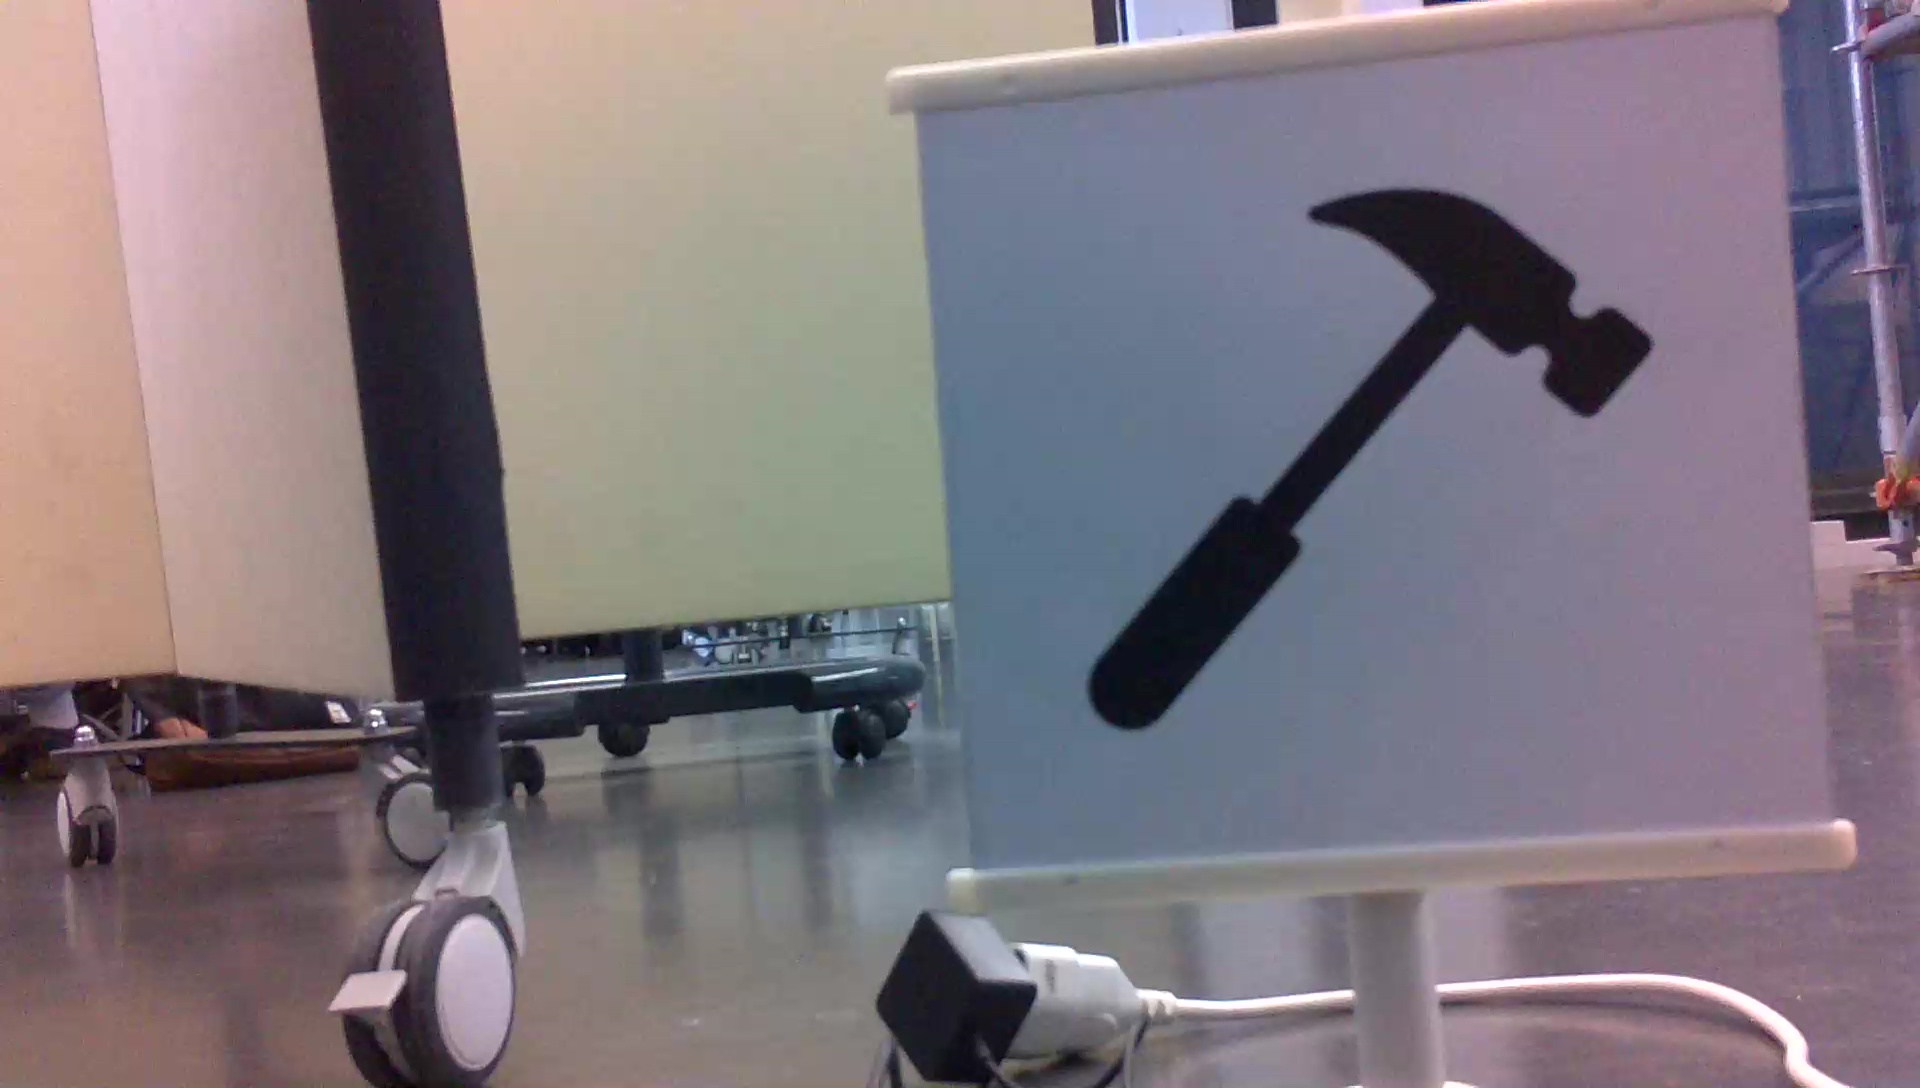hammer: (1069, 175, 1664, 740)
